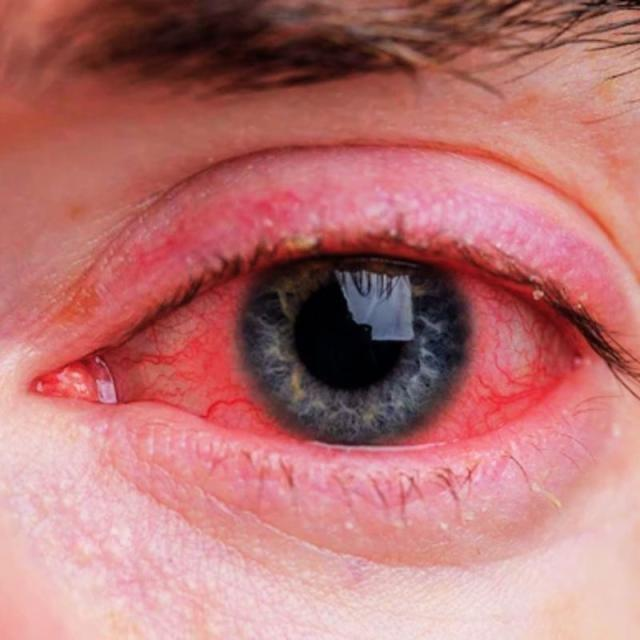Conjunctivitis: (21, 250, 620, 463)
